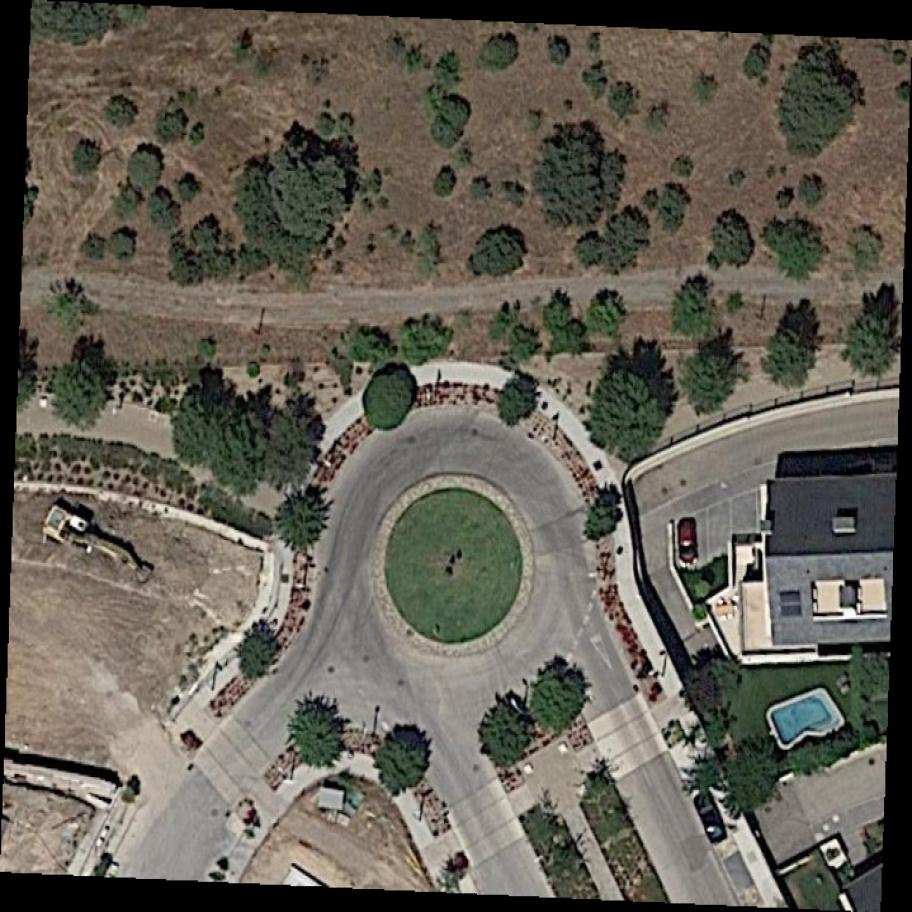small-vehicle: (689, 788, 734, 850), (677, 517, 703, 572)
